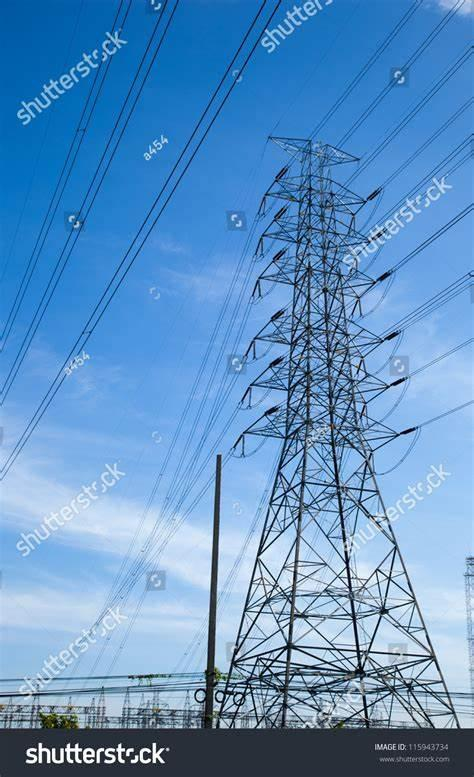power_tower: (220, 132, 472, 746)
